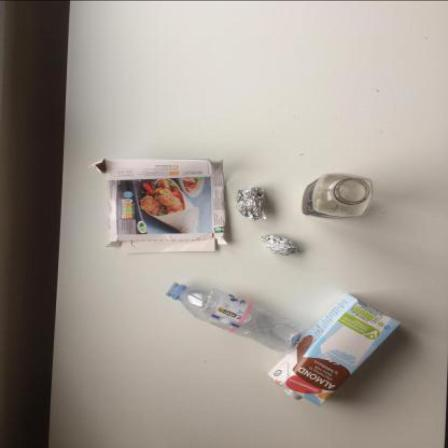Aluminium foil: (236, 187, 267, 222), (262, 235, 302, 257)
Bottle: (166, 283, 307, 355), (302, 174, 374, 220)
Carton: (269, 294, 403, 408), (90, 160, 229, 254)
